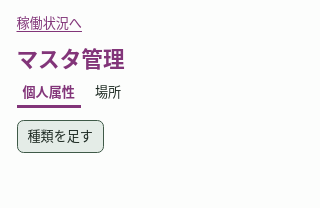
Test case: places-tabs › タブを押すと hash が変わり、画面が切り替わる
This screenshot has width=320, height=208.
Step 1. Click the tab "場所" → point(108, 94), box [89,79,127,108]
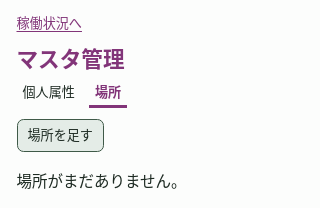
expect the element with test id "places-view" is shown: met, box [16,119,186,191]
Step 2. Click the tab "個人属性" → point(49, 94), box [16,79,81,108]
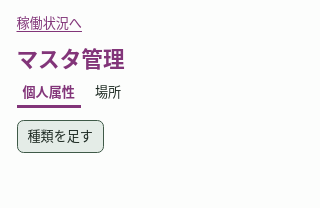
expect the element with test id "places-view" is gone: met
